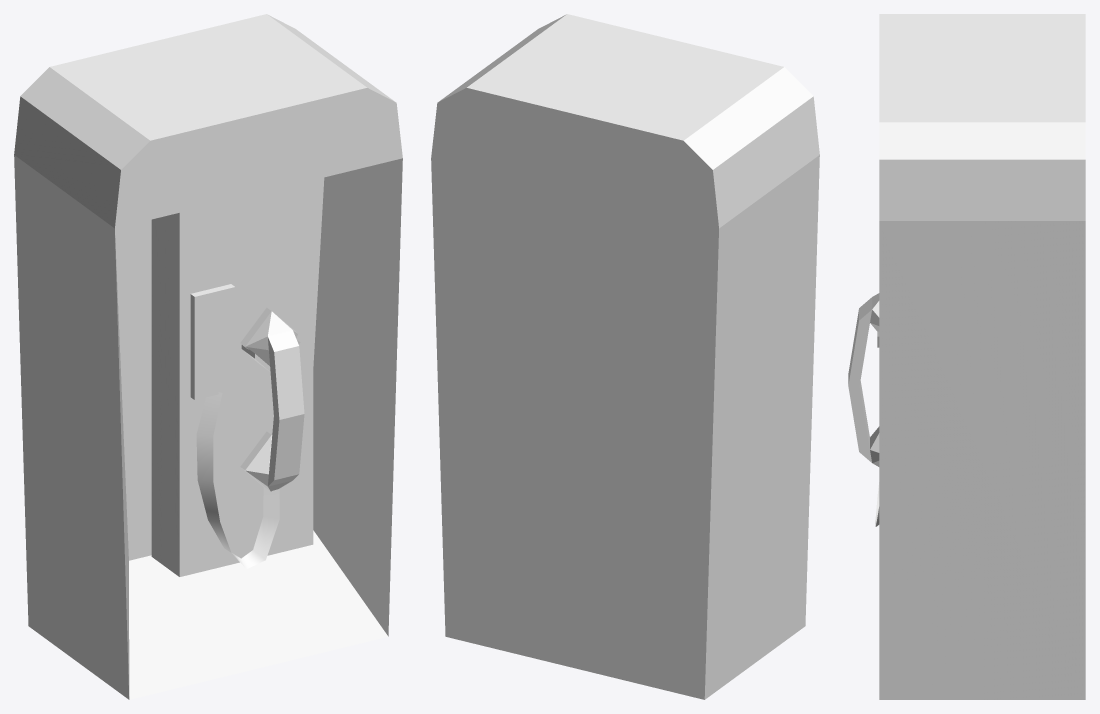
The model's file is publicPhone.glb.
3 views of the same model, side by side, from view 1: azimuth 30°, elevation 25°; view 2: azimuth 150°, elevation 25°; view 3: azimuth 270°, elevation 25° (orthographic). The views are drawn at different scales.
Visible parts, largest first — view 1: public_Phone; view 2: public_Phone; view 3: public_Phone.
Part boxes in pixels (x1,y1,x2,y2): public_Phone: (14, 14, 402, 699); public_Phone: (431, 14, 819, 699); public_Phone: (848, 14, 1085, 699).
Size of the model in its own units: 0.4752 by 0.8736 by 0.3313.
Materials: 1 (1 with a texture image).
